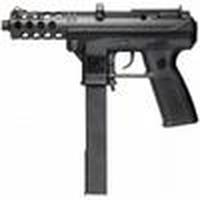gun: (1, 2, 189, 165)
